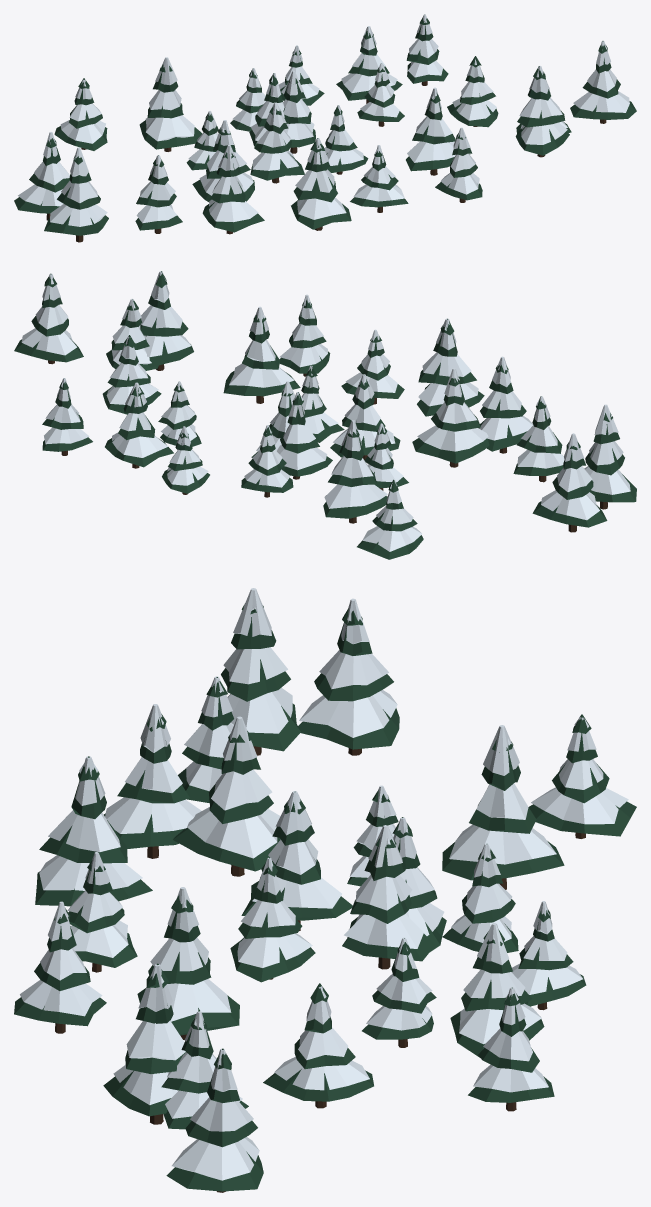
File: Frontier_Grove_Mid_B.fbx
3 views of the same model, one above another, from view 1: azimuth 30°, elevation 25°; view 2: azimuth 150°, elevation 25°; view 3: azimuth 270°, elevation 25° (orthographic). The views are drawn at different scales.
Parts seen in each view (by area): view 1: Frontier_Grove_Mid_B; view 2: Frontier_Grove_Mid_B; view 3: Frontier_Grove_Mid_B.
Boxes of the visible parts, bbox=[...] form: Frontier_Grove_Mid_B: bbox=[14, 14, 636, 242]; Frontier_Grove_Mid_B: bbox=[14, 271, 636, 559]; Frontier_Grove_Mid_B: bbox=[14, 588, 636, 1192].
Bounding box in the file's own units: 4536 × 706 × 2442.
